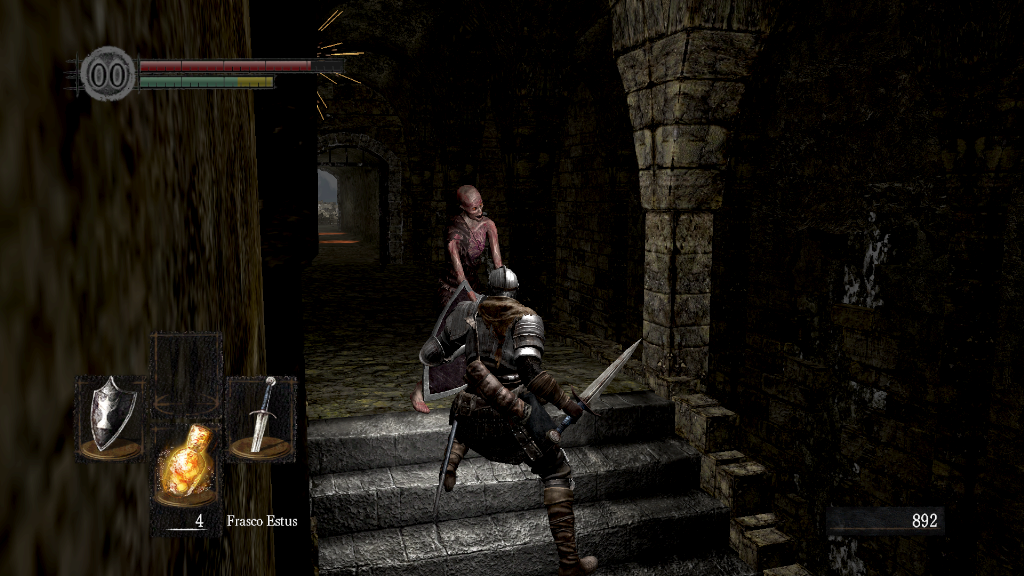health: (138, 58, 343, 71)
hollow: (410, 182, 509, 413)
humanity: (80, 45, 136, 102)
player: (418, 266, 643, 576)
souls: (825, 506, 945, 536)
stamina: (138, 74, 274, 88)
